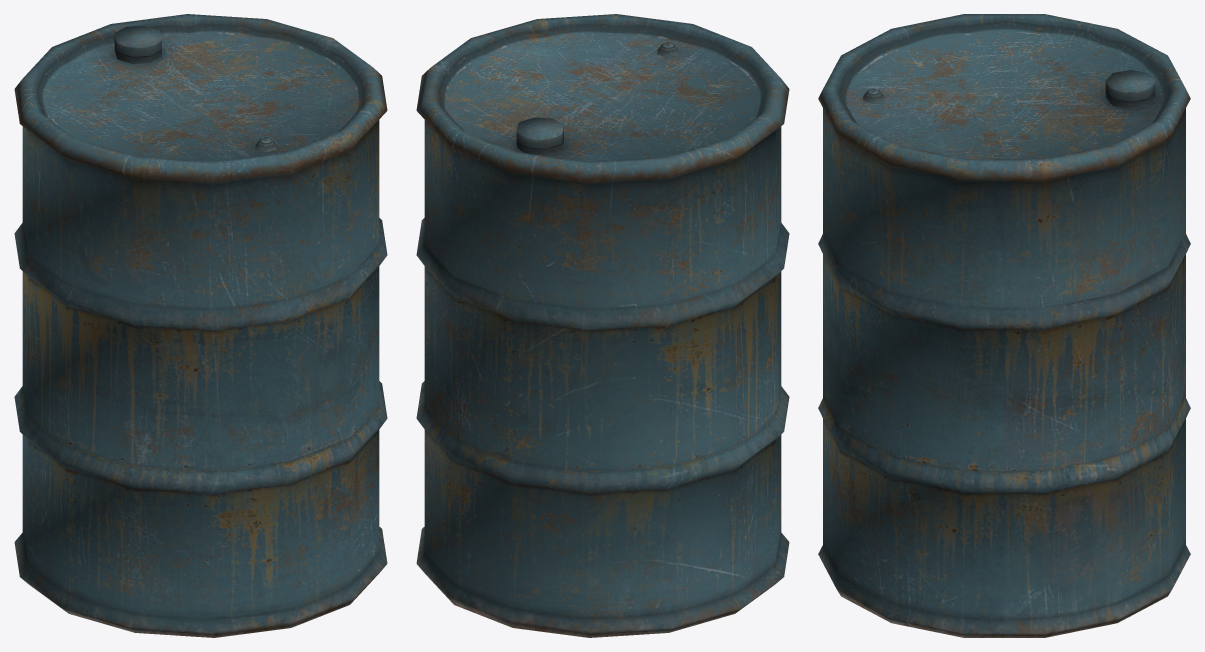
Rendered from barrel_oil_02.fbx.
3 views of the same model, side by side, from view 1: azimuth 30°, elevation 25°; view 2: azimuth 150°, elevation 25°; view 3: azimuth 270°, elevation 25° (orthographic).
Visible parts, largest first — view 1: barrel32; view 2: barrel32; view 3: barrel32.
Boxes of the visible parts, x1,y1,x2,y2 form: barrel32: [14, 14, 387, 637]; barrel32: [416, 14, 789, 637]; barrel32: [818, 14, 1190, 637].
Bounding box in the file's own units: 63 × 90.06 × 63.
